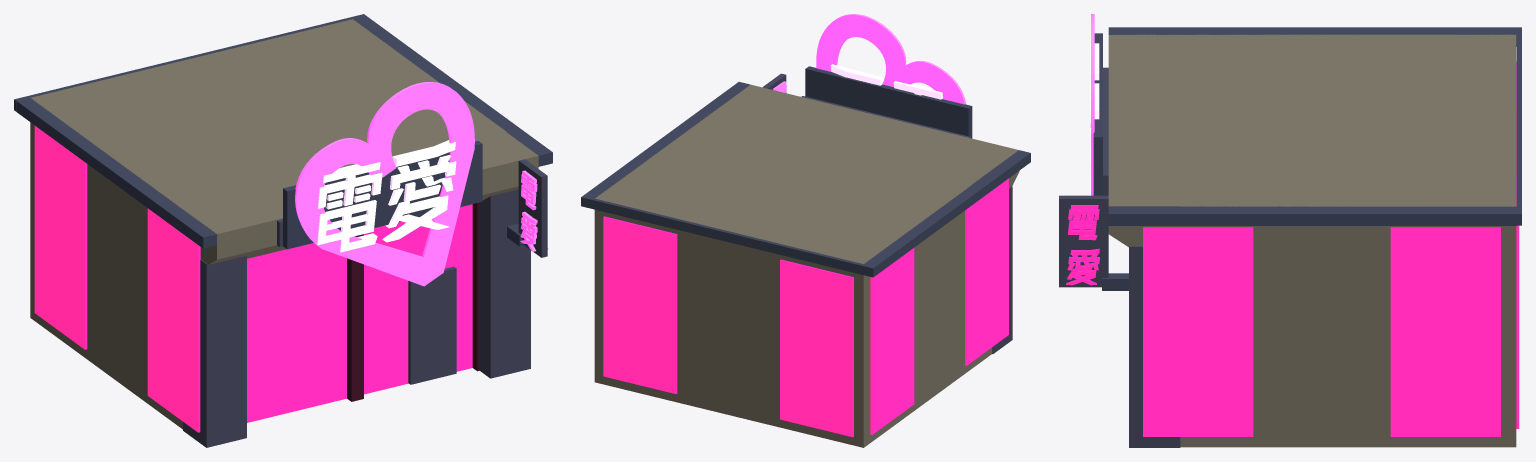
3 views of the same model, side by side, from view 1: azimuth 30°, elevation 25°; view 2: azimuth 150°, elevation 25°; view 3: azimuth 270°, elevation 25° (orthographic). The views are drawn at different scales.
Visible parts, largest first — view 1: Cube.028, Cube.002, Text.003, Cube.017, Cube.016, Cube.007, Cube, Text.002, Cube.001, Cube.006, Cube.018, Cube.011 (+6 smaller); view 2: Cube.028, Cube.013, Cube.014, Cube.001, Cube.016, Cube.017, Cube.011, Text.003, Cube.020, Cube.018, Cube.019, Text.002 (+1 smaller); view 3: Cube.028, Cube.012, Cube.015, Cube.001, Cube.019, Cube.018, Cube, Cube.008, Text, Cube.020, Cube.011, Cube.013 (+4 smaller).
Boxes of the visible parts, x1,y1,x2,y2 form: Cube.028: (30,19,505,429); Cube.002: (247,204,472,422); Text.003: (295,82,474,286); Cube.017: (147,208,200,432); Cube.016: (34,125,87,349); Cube.007: (183,255,246,447); Cube: (479,189,530,378); Text.002: (317,140,456,252); Cube.001: (184,132,538,264); Cube.006: (408,266,456,384); Cube.018: (16,98,216,248); Cube.011: (283,140,482,249); Cube.028: (594,104,992,447); Cube.013: (603,216,677,393); Cube.014: (780,259,853,437); Cube.001: (724,84,1019,187); Cube.016: (870,248,914,434); Cube.017: (965,178,1008,365); Cube.011: (805,66,972,138); Text.003: (816,14,966,104); Cube.020: (581,196,875,277); Cube.018: (864,150,1030,275); Cube.019: (583,82,750,198); Text.002: (830,64,942,99); Cube.028: (1180,34,1516,447); Cube.012: (1143,227,1253,436); Cube.015: (1390,227,1500,436); Cube.001: (1108,34,1180,247); Cube.019: (1108,206,1516,225); Cube.018: (1108,27,1516,46); Cube: (1129,246,1180,447); Cube.008: (1059,195,1108,287); Text: (1066,205,1099,285); Cube.020: (1516,27,1521,225); Cube.011: (1093,33,1102,195); Cube.013: (1516,174,1519,428).
Bounding box in the file's own units: 13.47 × 12.09 × 14.12.
